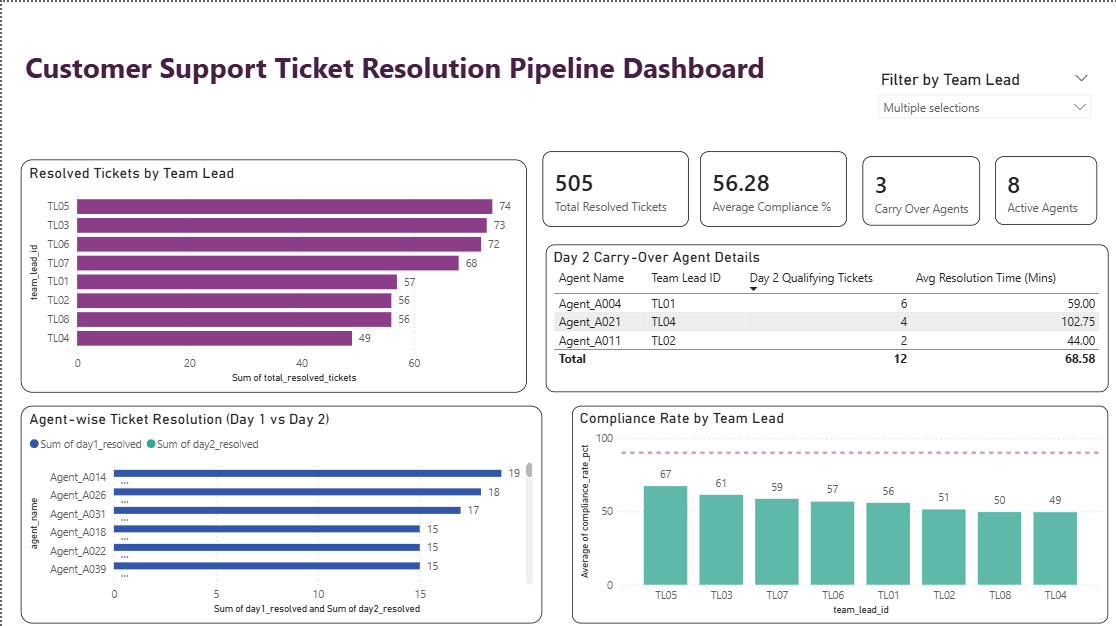

Layout of this report page (visuals, bound fields, positions):
{"tool":"powerbi","page":{"name":"Page 1","canvas":[1280,720],"ordinal":1},"visuals":[{"type":"cardVisual","title":"Total Resolved Tickets","fields":{"Data":["Sum(Q1_TeamPerformance.total_resolved_tickets)"]},"box":[606.2,158.8,191.2,110],"z":0},{"type":"cardVisual","title":"Carry Over Agents","fields":{"Data":["Count(Q4_CarryOver.agent_id)"]},"box":[971.2,163.8,158,103.8],"z":1000},{"type":"cardVisual","title":"Average Compliance %","fields":{"Data":["Avg(Q3_Compliance.compliance_rate_pct)"]},"box":[785,158.8,192.5,110],"z":2000},{"type":"cardVisual","title":"Active Agents","fields":{"Data":["CountNonNull(Q1_TeamPerformance.active_agents)"]},"box":[1122.5,163.8,141.2,102.5],"z":3000},{"type":"clusteredBarChart","title":"Resolved Tickets by Team Lead","fields":{"Category":["Q1_TeamPerformance.team_lead_id"],"Y":["Sum(Q1_TeamPerformance.total_resolved_tickets)"]},"box":[22,180,578,266],"z":4000},{"type":"columnChart","title":"Compliance Rate by Team Lead","fields":{"Category":["Q3_Compliance.team_lead_id"],"Y":["Avg(Q3_Compliance.compliance_rate_pct)"]},"box":[651.4,461.4,612.9,248.6],"z":5000},{"type":"tableEx","title":"Day 2 Carry-Over Agent Details","fields":{"Values":["Q4_CarryOver.agent_name","Q4_CarryOver.team_lead_id","Sum(Q4_CarryOver.day2_qualifying_tickets)","Avg(Q4_CarryOver.avg_resolution_mins_day2)"]},"box":[621.4,277.1,642.9,168.6],"z":6000},{"type":"textbox","box":[21.4,47.1,921.4,80],"z":7000},{"type":"clusteredBarChart","title":"Agent-wise Ticket Resolution (Day 1 vs Day 2)","fields":{"Category":["Q2_AgentPerformance.agent_name"],"Y":["Sum(Q2_AgentPerformance.day1_resolved)","Sum(Q2_AgentPerformance.day2_resolved)"]},"box":[21.4,461.4,595.7,248.6],"z":8000},{"type":"slicer","fields":{"Values":["Dim_TeamLeads.team_lead_id"]},"box":[991.4,72.9,262.9,70],"z":9000}]}

Visuals, with their boxes in screenshot pixels (x1, y1, x2, y2), scaled from the page's 1280x720 canvas onto the 1116x626 screenshot:
"Total Resolved Tickets" cardVisual: left=529, top=138, right=695, bottom=234
"Carry Over Agents" cardVisual: left=847, top=142, right=985, bottom=233
"Average Compliance %" cardVisual: left=684, top=138, right=852, bottom=234
"Active Agents" cardVisual: left=979, top=142, right=1102, bottom=232
"Resolved Tickets by Team Lead" clusteredBarChart: left=19, top=156, right=523, bottom=388
"Compliance Rate by Team Lead" columnChart: left=568, top=401, right=1102, bottom=617
"Day 2 Carry-Over Agent Details" tableEx: left=542, top=241, right=1102, bottom=388
textbox: left=19, top=41, right=822, bottom=111
"Agent-wise Ticket Resolution (Day 1 vs Day 2)" clusteredBarChart: left=19, top=401, right=538, bottom=617
slicer - Dim_TeamLeads.team_lead_id: left=864, top=63, right=1094, bottom=124
